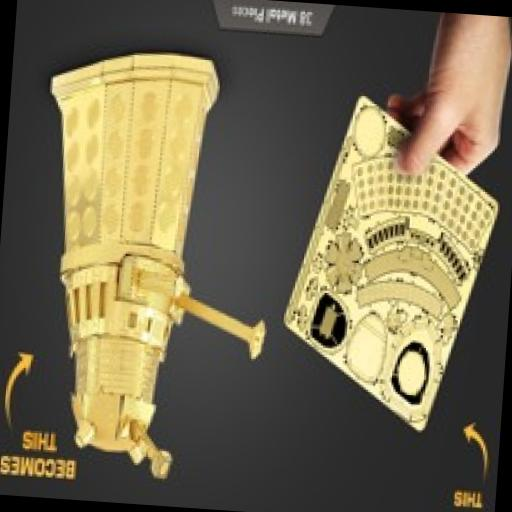dalek: (22, 42, 286, 488)
